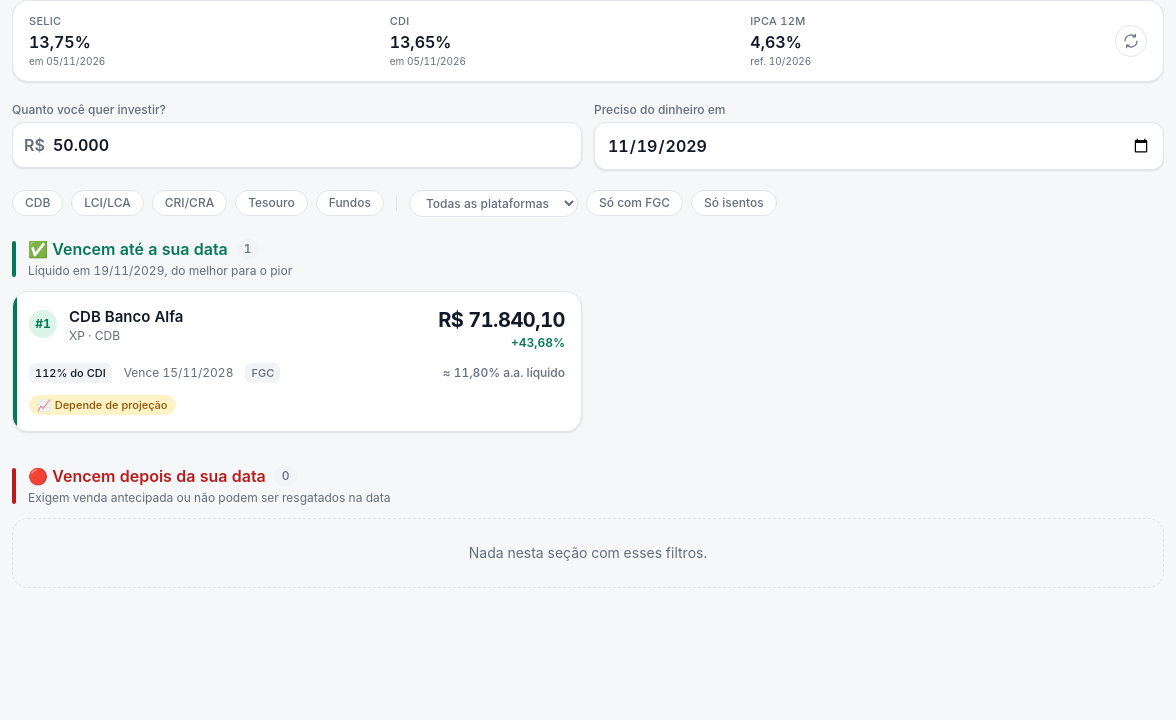
apagar o valor esconde os cards e mostra a validação
Check: the button "CDB Banco Alfa" is shown, box x1=69 y1=308 x2=183 y2=326
Clear the field labelled "Quanto você quer investir?" at x=297, y=144, box x1=12 y1=122 x2=582 y2=168
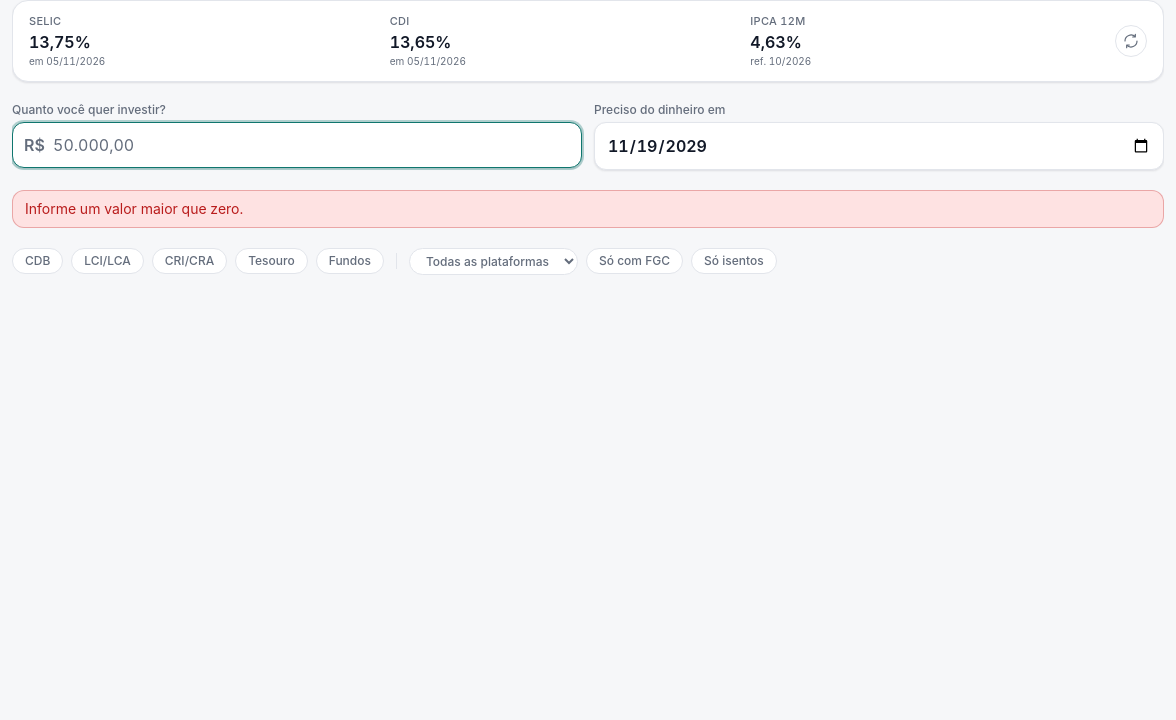
Check: the button "CDB Banco Alfa" is gone
Check: the text "Informe um valor maior que zero." is shown, box x1=25 y1=200 x2=243 y2=216
